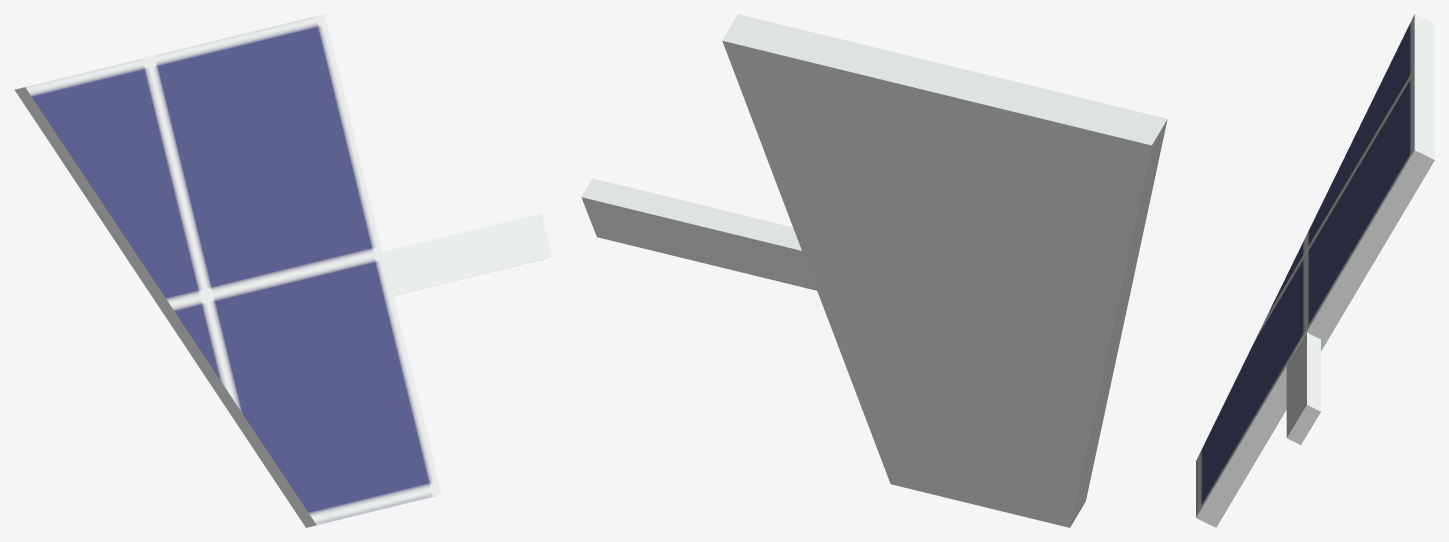
Rendered from Fragment002.fbx.
3 views of the same model, side by side, from view 1: azimuth 30°, elevation 25°; view 2: azimuth 150°, elevation 25°; view 3: azimuth 270°, elevation 25° (orthographic). The views are drawn at different scales.
Parts seen in each view (by area): view 1: SatelliteFrag.002; view 2: SatelliteFrag.002; view 3: SatelliteFrag.002.
Part boxes in pixels (bbox=[...]): SatelliteFrag.002: bbox=[14, 14, 552, 527]; SatelliteFrag.002: bbox=[581, 14, 1167, 527]; SatelliteFrag.002: bbox=[1196, 14, 1434, 527].
Bounding box in the file's own units: 214 × 181 × 104.
